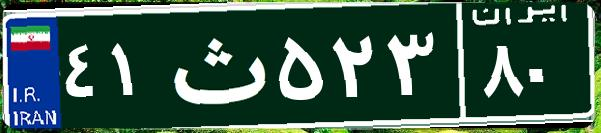0: (525, 38, 570, 115)
1: (110, 28, 158, 105)
2: (330, 28, 385, 110)
3: (385, 28, 445, 110)
4: (57, 26, 110, 107)
5: (273, 28, 330, 110)
8: (475, 38, 525, 113)
ث: (158, 15, 273, 115)
